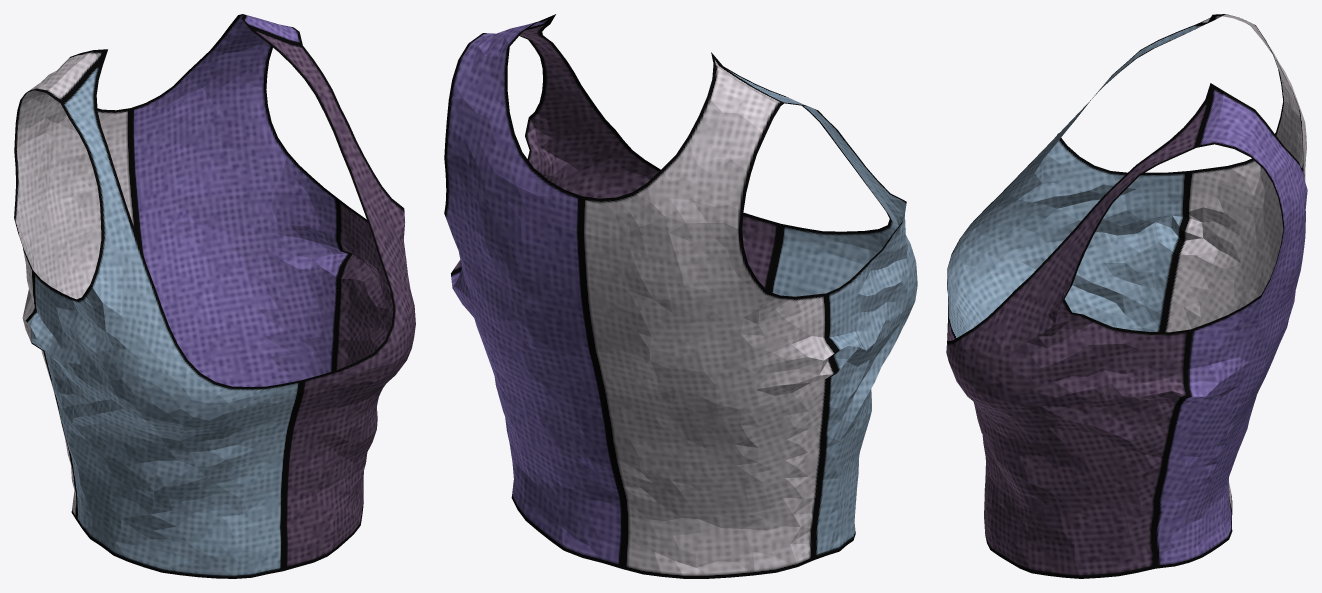
The model's file is tank_knit2_nodrop_sim.obj.
The picture shows the model from 3 angles, left to right: view 1: azimuth 30°, elevation 25°; view 2: azimuth 150°, elevation 25°; view 3: azimuth 270°, elevation 25°; orthographic projection. The views are drawn at different scales.
Size of the model in its own units: 22.48 by 29.85 by 20.39.
1 material, 1 textured.
